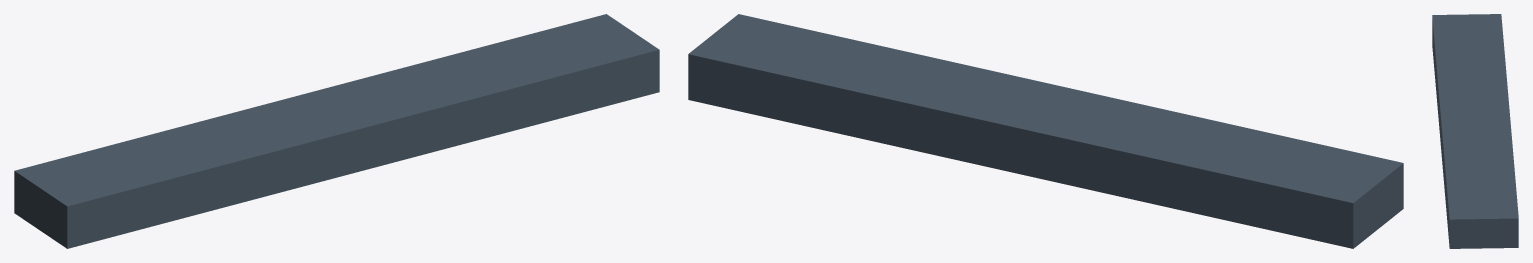
Rendered from fl_hipy_40.obj.
The picture shows the model from 3 angles, left to right: view 1: azimuth 30°, elevation 25°; view 2: azimuth 150°, elevation 25°; view 3: azimuth 270°, elevation 25°; orthographic projection. The views are drawn at different scales.
Bounding box in the file's own units: 0.0105 × 0.000701 × 0.00187.
